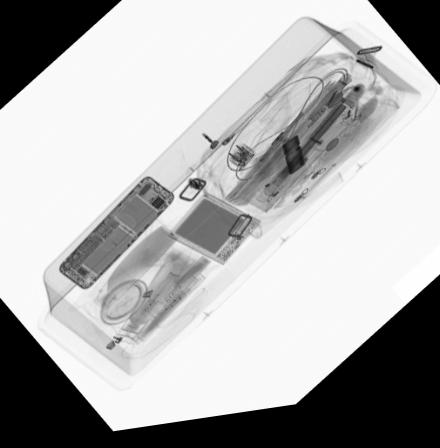Powerbank: (165, 197, 265, 273)
